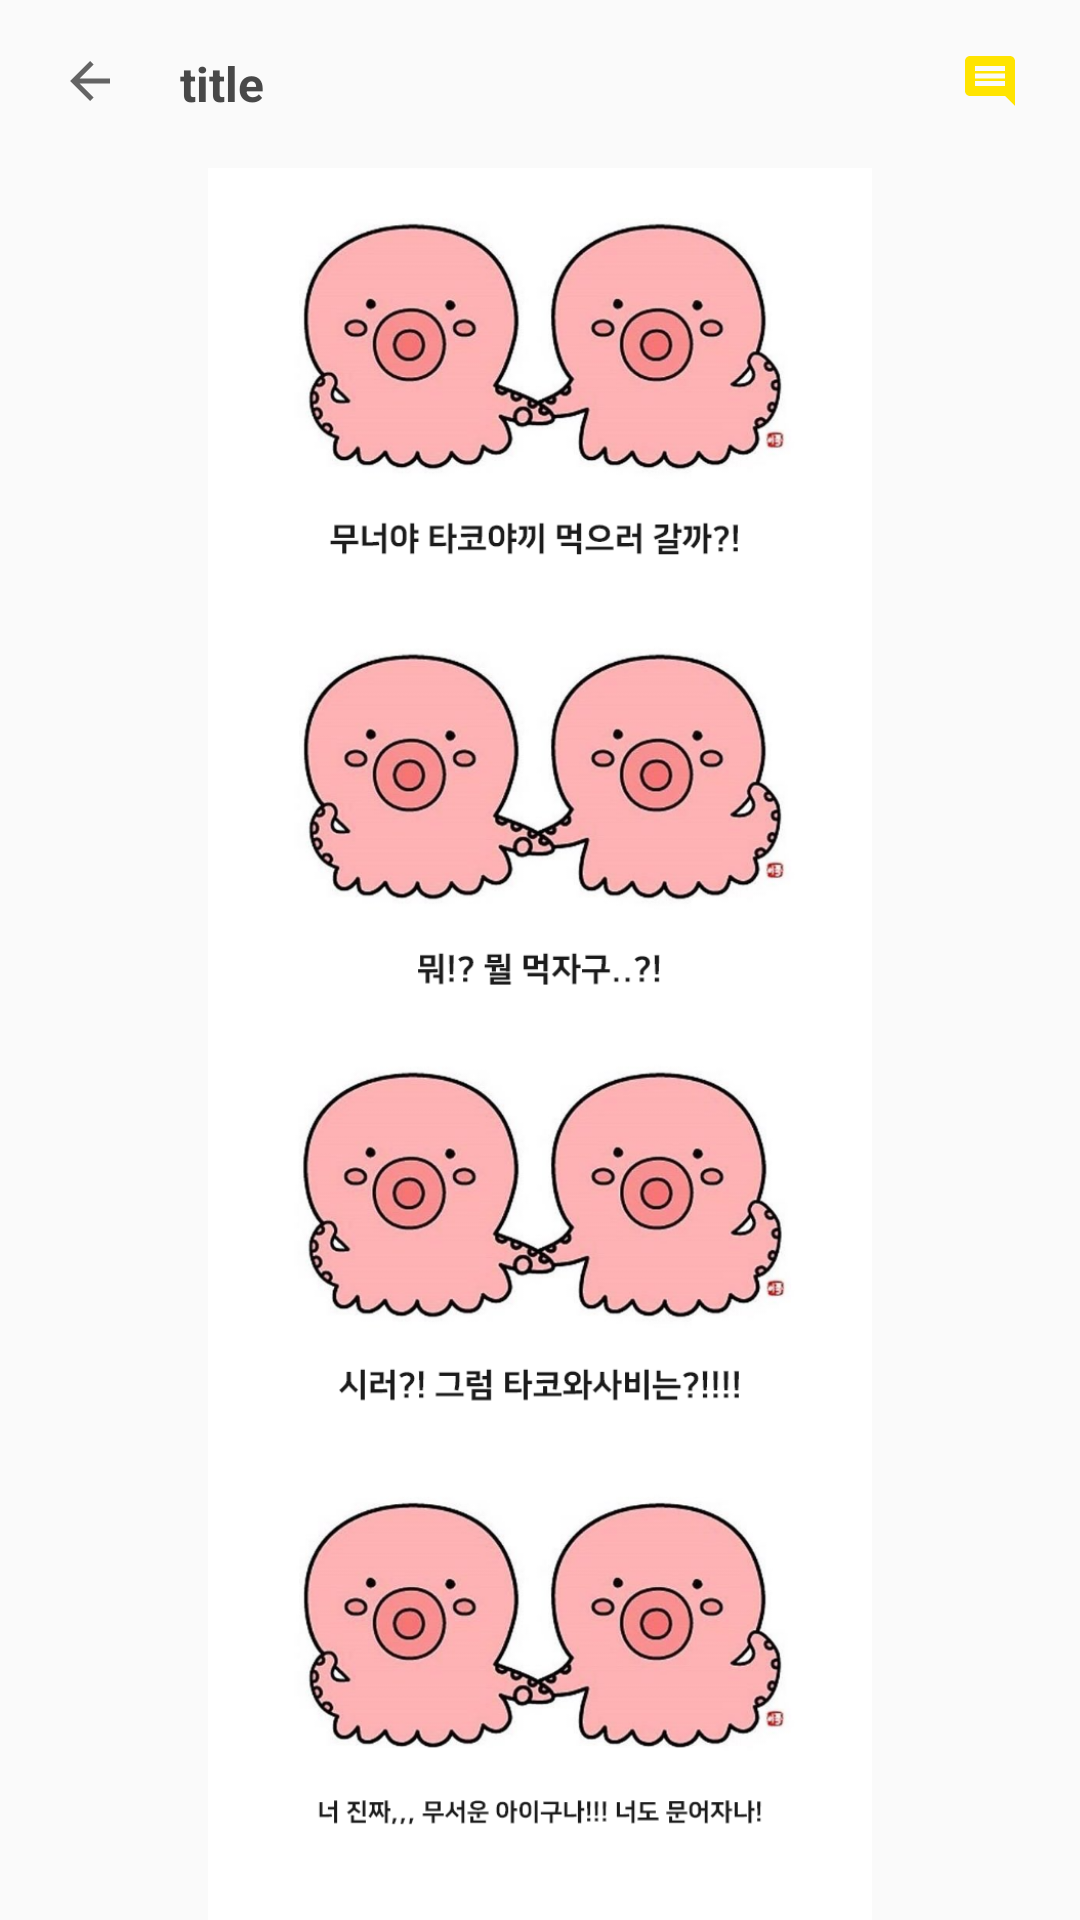

Named icons in this screenshot (1080×1920) and their centers, (x,y):
comment: (990,81)
